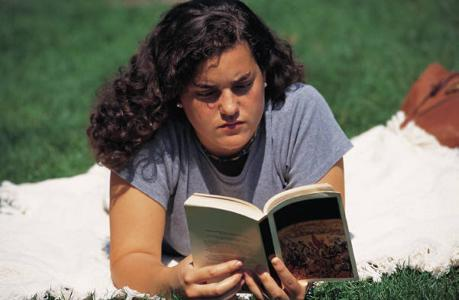person: (86, 1, 348, 300)
